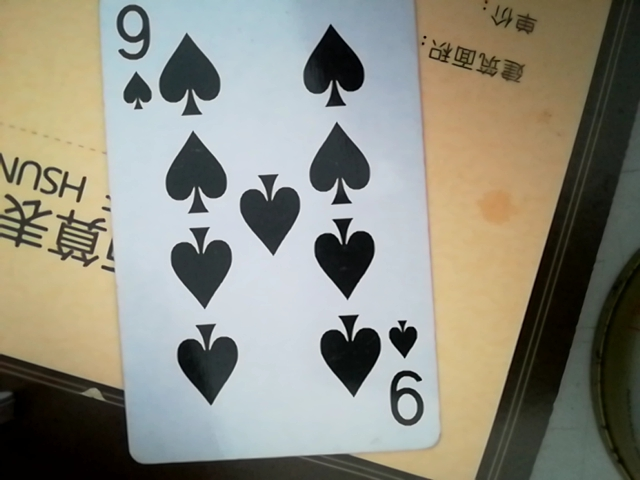ht 9: (88, 4, 450, 478)
